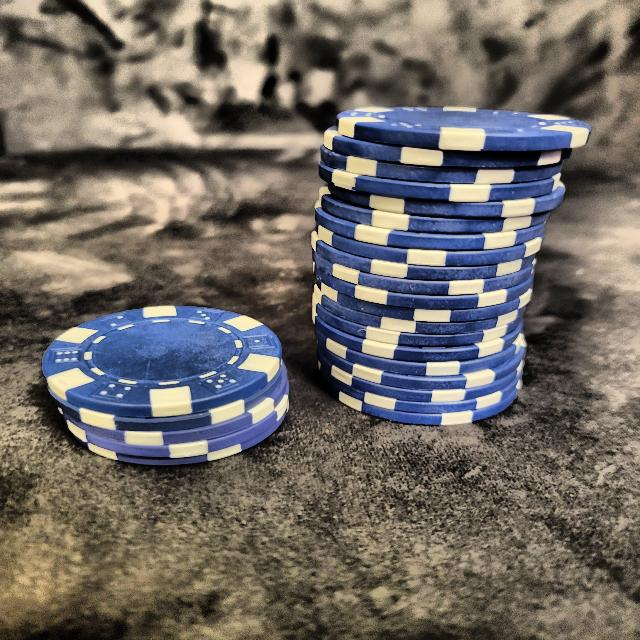Chip: (292, 92, 588, 426), (41, 285, 302, 479)
